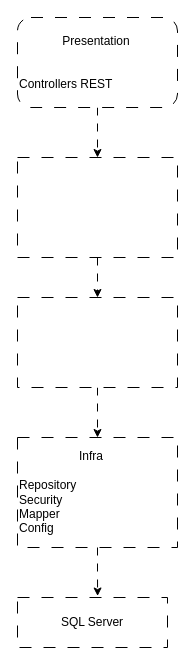
This 195x665 diagram has some shape labels left out. Each missing label, with the centre of its shape:
"Application Services DTOs" goes at point (97, 207).
"Domain Models Enums Exceptions" goes at point (97, 342).
